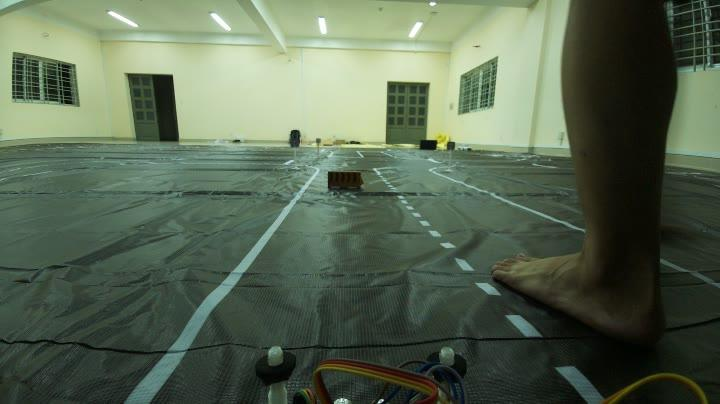roadblock: (324, 166, 372, 198)
